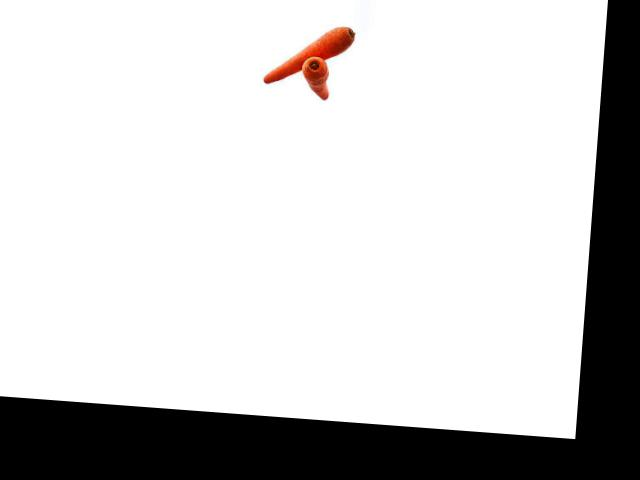carrot: (299, 52, 337, 102)
